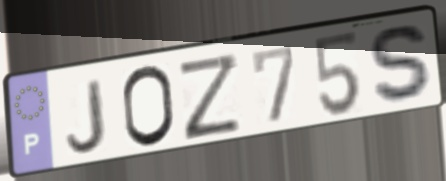5: (311, 27, 363, 120)
7: (247, 42, 298, 127)
J: (64, 75, 108, 156)
O: (119, 63, 178, 151)
S: (366, 22, 438, 107)
Z: (175, 49, 244, 143)
